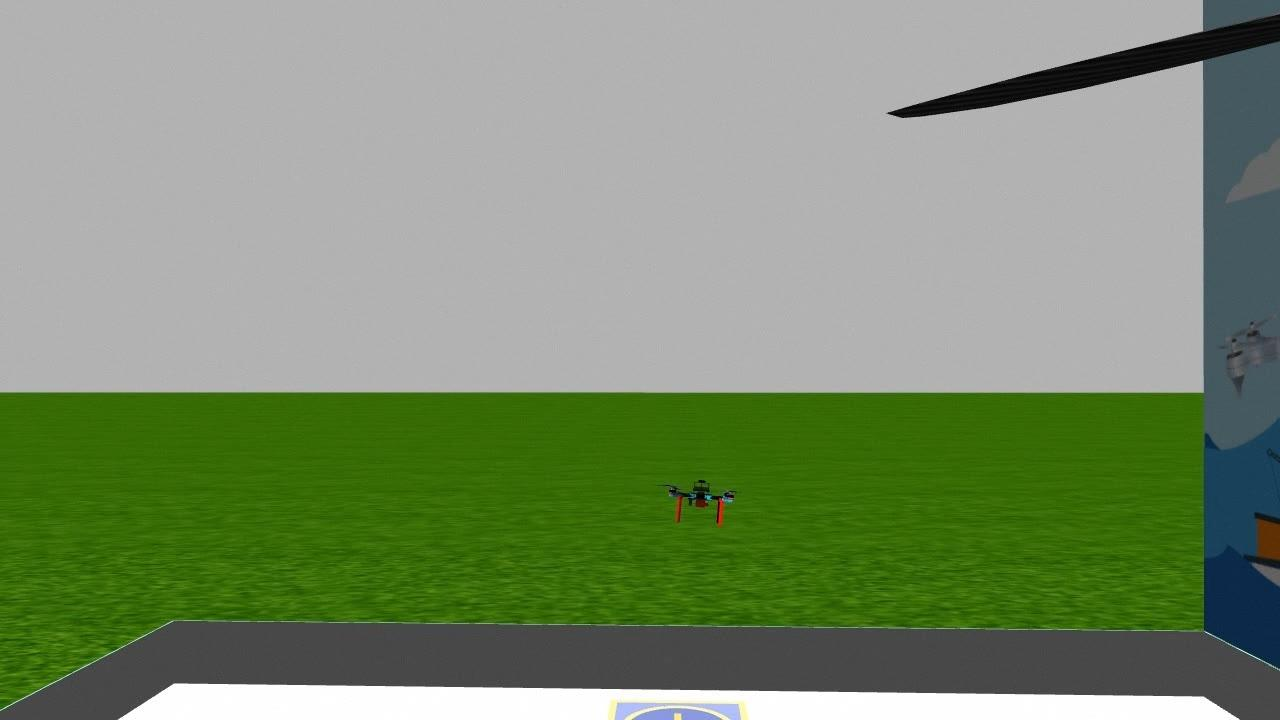UAV: (654, 468, 744, 528)
